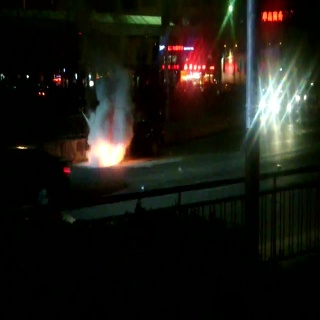fire: (93, 138, 125, 167)
